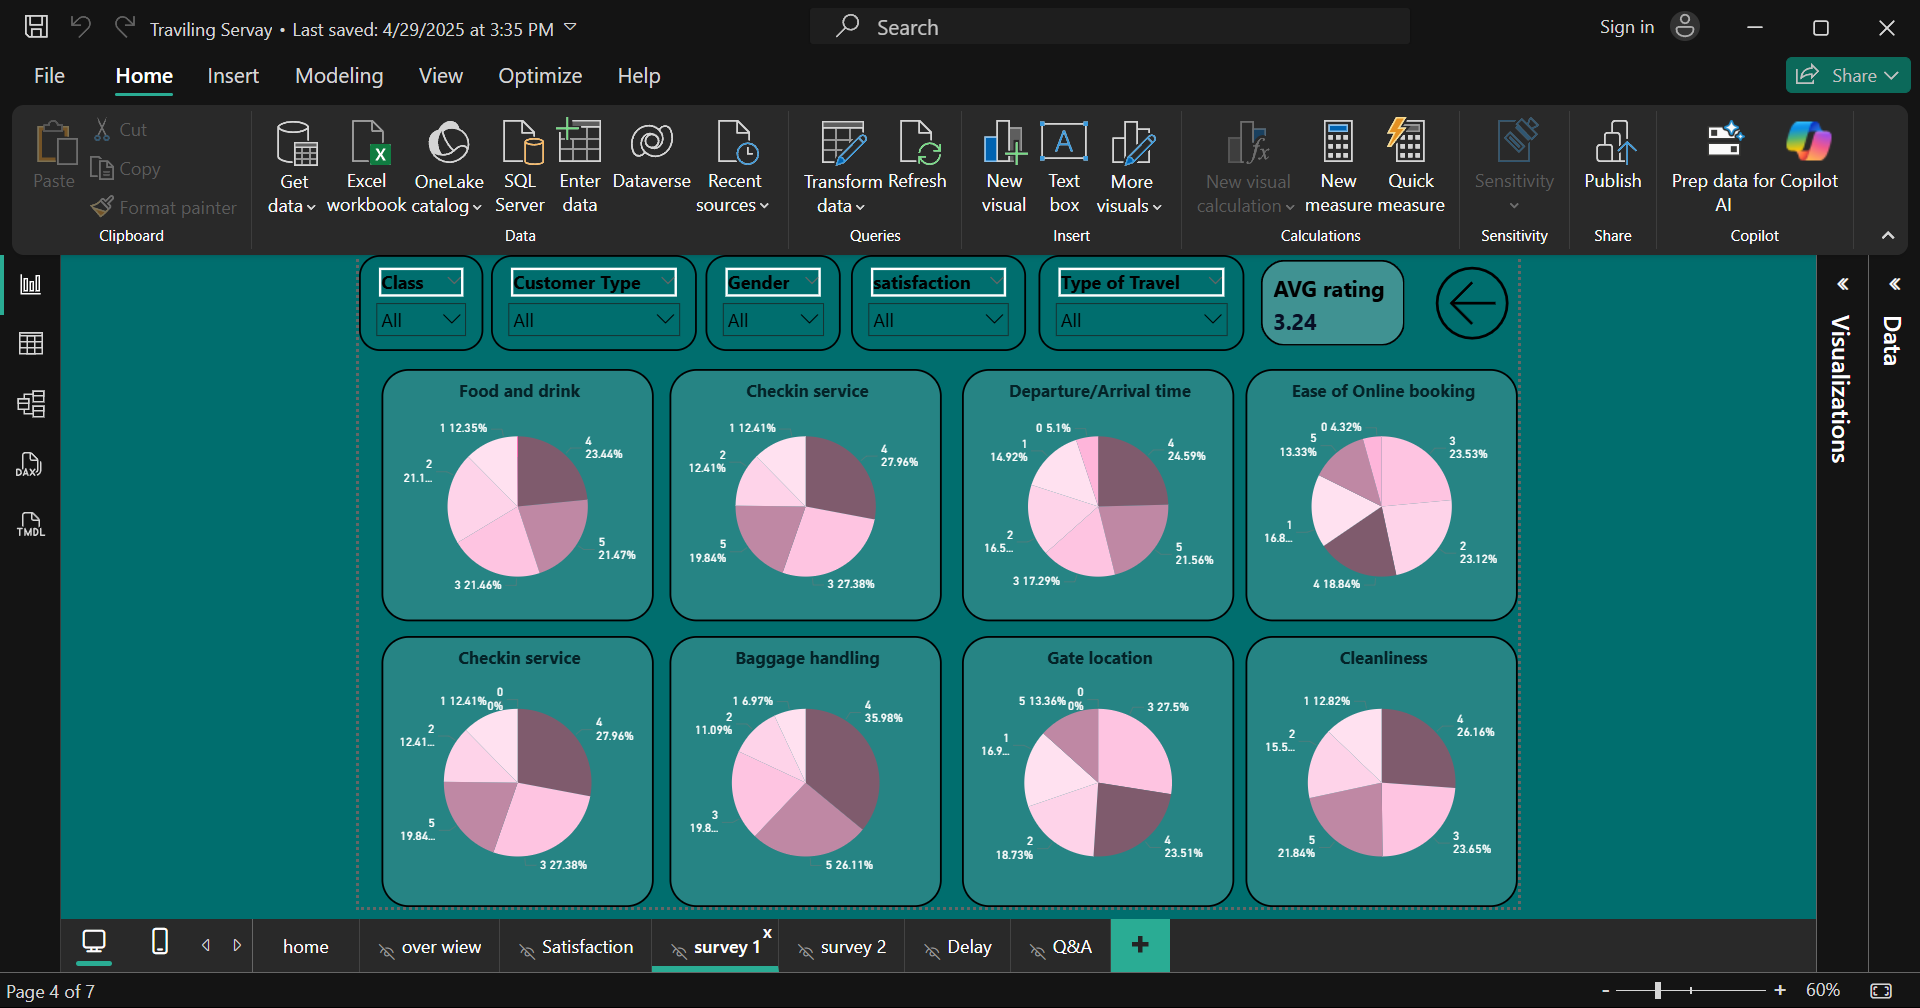

What the dashboard file says about the page in this screenshot:
{"tool":"powerbi","page":{"name":"survey 1","canvas":[1280,720],"ordinal":3},"visuals":[{"type":"pieChart","title":"Ease of Online booking","fields":{"Category":["train.Ease of Online booking"],"Y":["CountNonNull(train.Ease of Online booking)"]},"box":[978.7,126.2,300.8,279],"z":0},{"type":"pieChart","title":"Cleanliness","fields":{"Category":["train.Cleanliness"],"Y":["CountNonNull(train.Cleanliness)"]},"box":[978.7,420.8,300.8,299.2],"z":1000},{"type":"pieChart","title":"Departure/Arrival time","fields":{"Category":["train.Departure/Arrival time convenient"],"Y":["CountNonNull(train.Departure/Arrival time convenient)"]},"box":[665.5,126.2,300.8,279],"z":2000},{"type":"pieChart","title":"Food and drink","fields":{"Category":["train.Food and drink"],"Y":["CountNonNull(train.Food and drink)"]},"box":[24.9,126.2,300.8,279],"z":3000},{"type":"pieChart","title":"Gate location","fields":{"Y":["CountNonNull(train.Gate location)"],"Category":["train.Gate location"]},"box":[665.5,420.8,300.8,299.2],"z":4000},{"type":"pieChart","title":"Checkin service","fields":{"Category":["train.Checkin service"],"Y":["CountNonNull(train.Checkin service)"]},"box":[24.9,420.8,300.8,299.2],"z":5000},{"type":"pieChart","title":"Baggage handling","fields":{"Category":["train.Baggage handling"],"Y":["CountNonNull(train.Baggage handling)"]},"box":[342.9,420.8,300.8,299.2],"z":6000},{"type":"pieChart","title":"Checkin service","fields":{"Category":["train.Checkin service"],"Y":["CountNonNull(train.Checkin service)"]},"box":[342.9,126.2,300.8,279],"z":7000},{"type":"slicer","fields":{"Values":["train.Class"]},"box":[0,0,137.1,106],"z":8000},{"type":"slicer","fields":{"Values":["train.Customer Type"]},"box":[146.5,0,227.5,106],"z":9000},{"type":"slicer","fields":{"Values":["train.Gender"]},"box":[383.4,0,149.6,106],"z":10000},{"type":"slicer","fields":{"Values":["train.satisfaction"]},"box":[543.9,0,193.2,106],"z":11000},{"type":"slicer","fields":{"Values":["train.Type of Travel"]},"box":[749.6,0,227.5,106],"z":12000},{"type":"cardVisual","fields":{"Data":["Avg(train.AVG rating)"]},"box":[991.2,0,169.9,106],"z":13000},{"type":"actionButton","box":[1179.7,0,99.7,106],"z":14000}]}

Visuals, with their boxes on the page's 1280x720 design canvas (x1, y1, x2, y2). These are canvas units, not pixel positions in the 1920x1008 screenshot, which may show the page scaled, cropped or inside an application window:
"Ease of Online booking" pieChart: [left=979, top=126, right=1280, bottom=405]
"Cleanliness" pieChart: [left=979, top=421, right=1280, bottom=720]
"Departure/Arrival time" pieChart: [left=666, top=126, right=966, bottom=405]
"Food and drink" pieChart: [left=25, top=126, right=326, bottom=405]
"Gate location" pieChart: [left=666, top=421, right=966, bottom=720]
"Checkin service" pieChart: [left=25, top=421, right=326, bottom=720]
"Baggage handling" pieChart: [left=343, top=421, right=644, bottom=720]
"Checkin service" pieChart: [left=343, top=126, right=644, bottom=405]
slicer - train.Class: [left=0, top=0, right=137, bottom=106]
slicer - train.Customer Type: [left=146, top=0, right=374, bottom=106]
slicer - train.Gender: [left=383, top=0, right=533, bottom=106]
slicer - train.satisfaction: [left=544, top=0, right=737, bottom=106]
slicer - train.Type of Travel: [left=750, top=0, right=977, bottom=106]
cardVisual - Avg(train.AVG rating): [left=991, top=0, right=1161, bottom=106]
actionButton: [left=1180, top=0, right=1279, bottom=106]
